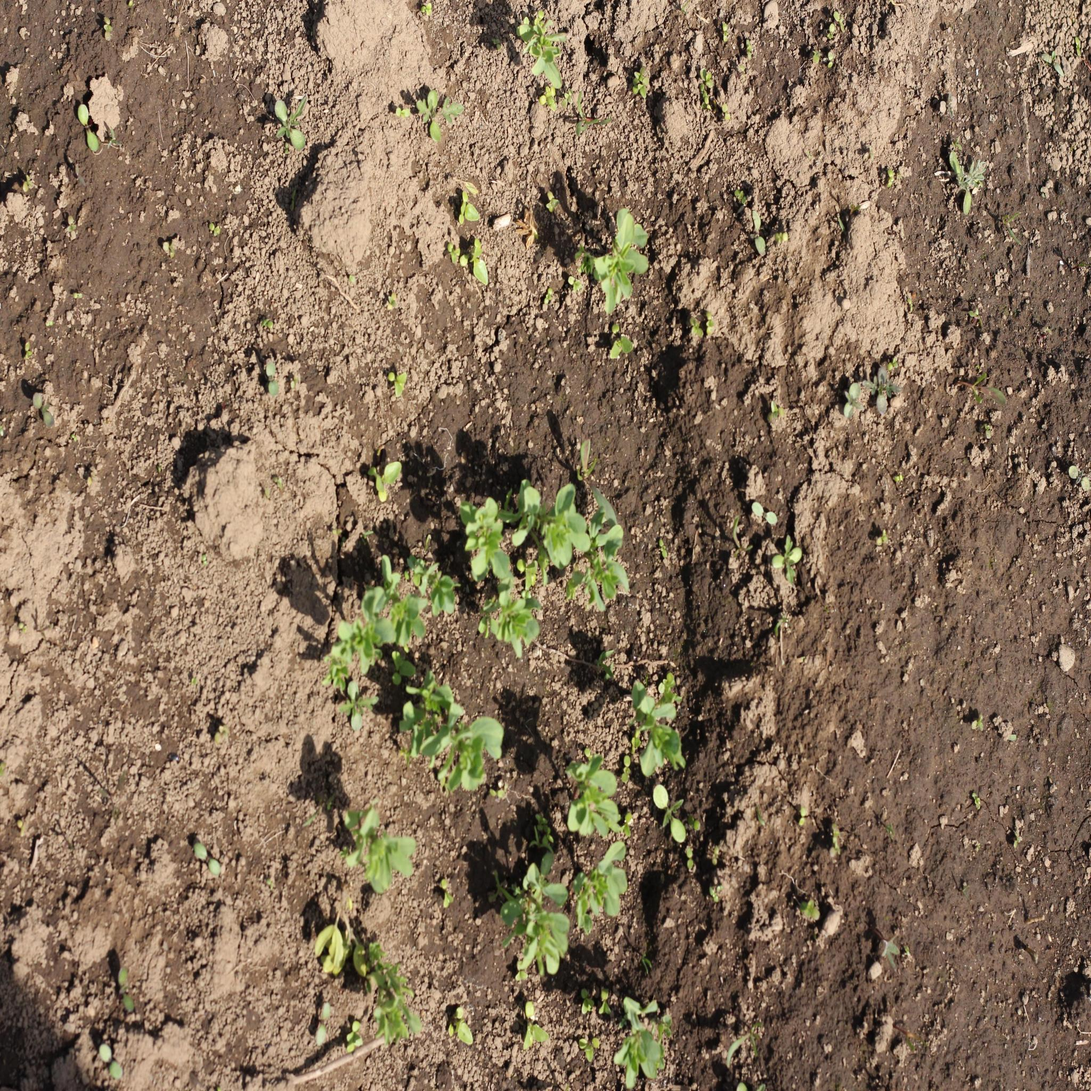AMBEL: (416, 90, 464, 140), (949, 153, 987, 214), (338, 680, 380, 728), (274, 93, 307, 149), (654, 784, 685, 842), (864, 366, 900, 413), (770, 535, 803, 583), (78, 105, 98, 152), (97, 1044, 123, 1079), (193, 842, 220, 875), (841, 382, 863, 419), (32, 391, 54, 427), (118, 966, 135, 1012), (315, 1001, 331, 1045), (751, 210, 766, 256), (751, 501, 777, 526), (265, 361, 279, 396), (833, 11, 844, 32), (828, 52, 834, 68)
LENCU: (500, 854, 569, 981), (575, 207, 649, 313), (423, 705, 504, 790), (510, 480, 590, 566), (567, 507, 630, 611), (345, 809, 419, 894), (369, 942, 422, 1045), (613, 995, 671, 1088), (632, 681, 688, 776), (573, 839, 630, 929), (332, 586, 390, 670), (400, 673, 453, 758), (566, 754, 620, 835), (459, 496, 511, 579), (480, 588, 543, 656), (315, 898, 365, 973), (517, 18, 567, 88), (408, 555, 460, 615), (386, 594, 426, 645)
POLAV: (578, 439, 617, 525), (725, 1021, 763, 1069), (958, 372, 1007, 405), (575, 92, 602, 136), (488, 869, 516, 901), (733, 515, 753, 556), (1002, 210, 1024, 245), (640, 953, 651, 974), (848, 202, 861, 219), (680, 0, 691, 14), (1072, 263, 1086, 271)
